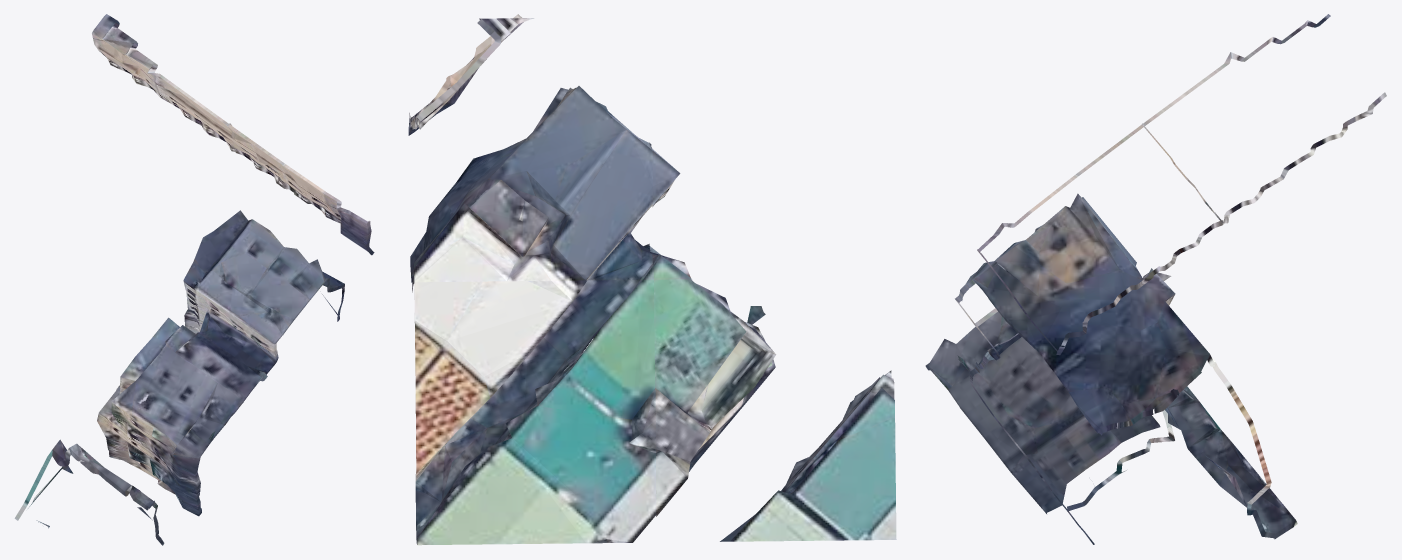
The picture shows the model from 3 angles, left to right: view 1: azimuth 30°, elevation 25°; view 2: azimuth 150°, elevation 25°; view 3: azimuth 270°, elevation 25°; orthographic projection. The views are drawn at different scales.
Bounding box in the file's own units: 42.37 × 50.17 × 39.32.
Materials: 2 (2 with a texture image).
